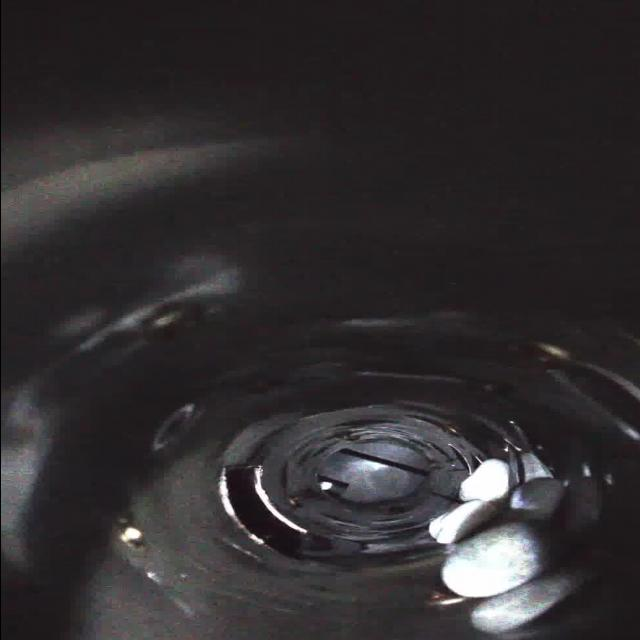crack: (436, 442, 491, 484), (408, 407, 470, 441), (366, 514, 428, 546), (310, 512, 362, 544), (429, 486, 475, 522), (326, 409, 385, 436), (286, 434, 324, 462), (270, 458, 296, 492)
hole: (204, 461, 306, 561)
